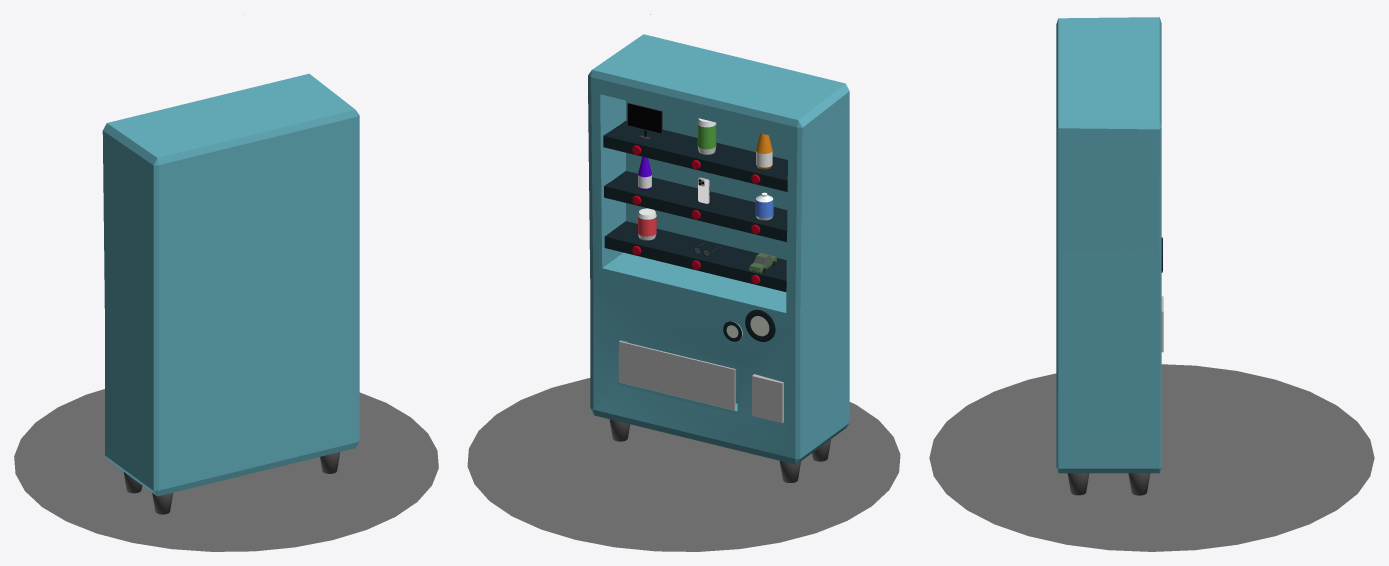
Rendered from pangi.glb.
The picture shows the model from 3 angles, left to right: view 1: azimuth 30°, elevation 25°; view 2: azimuth 150°, elevation 25°; view 3: azimuth 270°, elevation 25°; orthographic projection. The views are drawn at different scales.
Visible parts, largest first — view 1: machine, Circle; view 2: machine, Circle, 선반, Cube, panel, monitor, panel.001, Cylinder.001, Cylinder.014, Cylinder.005, Cylinder.006; view 3: Circle, machine.
Part boxes in pixels (x1=…): machine: x1=102, y1=73, x2=359, y2=496; Circle: x1=14, y1=389, x2=438, y2=551; machine: x1=588, y1=34, x2=849, y2=464; Circle: x1=467, y1=378, x2=900, y2=551; 선반: x1=603, y1=120, x2=787, y2=291; Cube: x1=618, y1=341, x2=735, y2=410; panel: x1=752, y1=374, x2=783, y2=423; monitor: x1=627, y1=102, x2=662, y2=134; panel.001: x1=745, y1=309, x2=775, y2=341; Cylinder.001: x1=632, y1=145, x2=760, y2=284; Cylinder.014: x1=697, y1=118, x2=716, y2=154; Cylinder.005: x1=638, y1=208, x2=656, y2=240; Cylinder.006: x1=756, y1=133, x2=772, y2=169; Circle: x1=929, y1=364, x2=1374, y2=551; machine: x1=1056, y1=17, x2=1161, y2=473.
Size of the model in its own units: 8.43 by 9.55 by 8.43.
